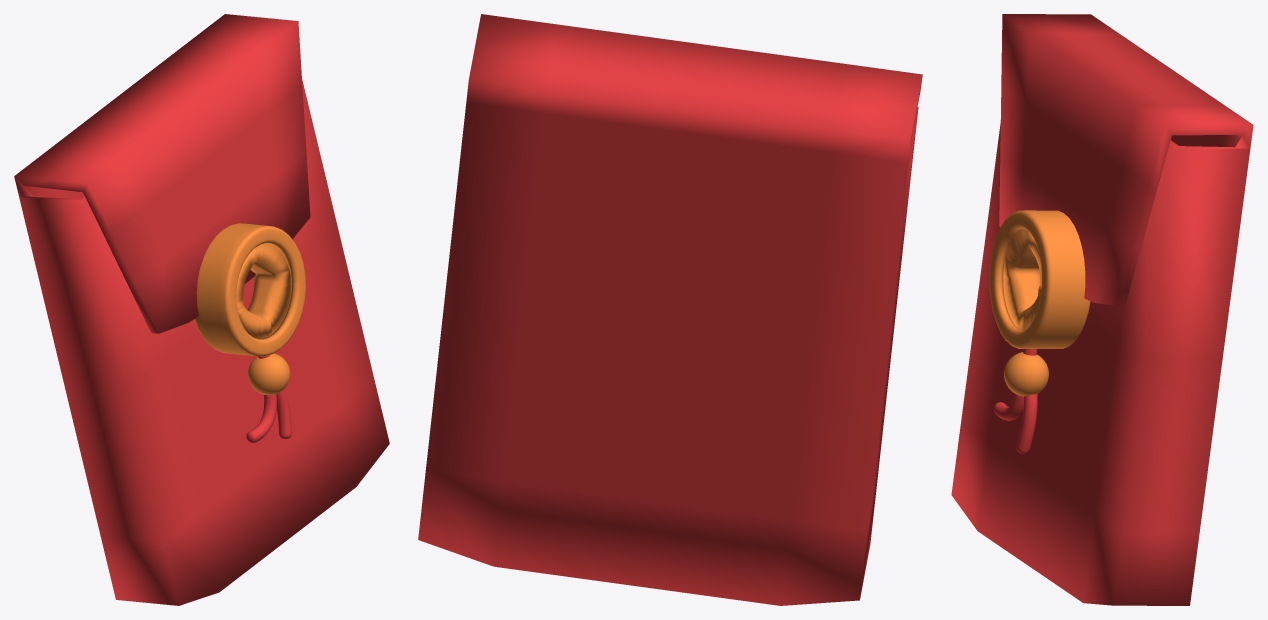
The model's file is lixi_hoamai.glb.
The picture shows the model from 3 angles, left to right: view 1: azimuth 30°, elevation 25°; view 2: azimuth 150°, elevation 25°; view 3: azimuth 270°, elevation 25°; orthographic projection. The views are drawn at different scales.
Parts seen in each view (by area): view 1: Cube.004, Cylinder.003, Sphere.012, NurbsPath.009, NurbsPath.011; view 2: Cube.004; view 3: Cube.004, Cylinder.003, Sphere.012, NurbsPath.011, NurbsPath.009.
Boxes of the visible parts, x1=… form: Cube.004: x1=14, y1=14, x2=389, y2=605; Cylinder.003: x1=195, y1=223, x2=305, y2=356; Sphere.012: x1=248, y1=353, x2=290, y2=395; NurbsPath.009: x1=246, y1=394, x2=276, y2=443; NurbsPath.011: x1=276, y1=389, x2=291, y2=438; Cube.004: x1=418, y1=14, x2=922, y2=605; Cube.004: x1=951, y1=14, x2=1253, y2=605; Cylinder.003: x1=989, y1=210, x2=1090, y2=348; Sphere.012: x1=1004, y1=352, x2=1048, y2=396; NurbsPath.011: x1=1016, y1=394, x2=1037, y2=453; NurbsPath.009: x1=993, y1=394, x2=1023, y2=420.
Bounding box in the file's own units: 2.36 × 2.79 × 1.51.
